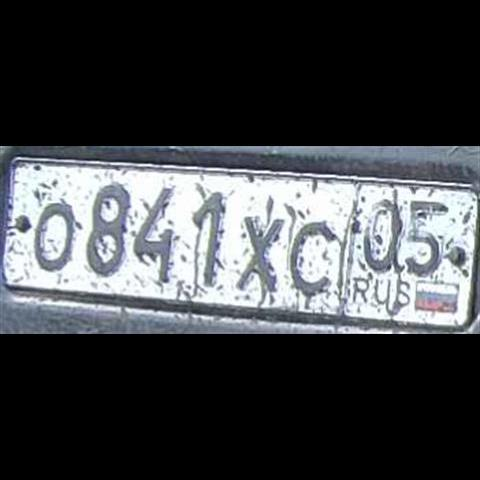license-plateSW: (1, 156, 476, 333)
